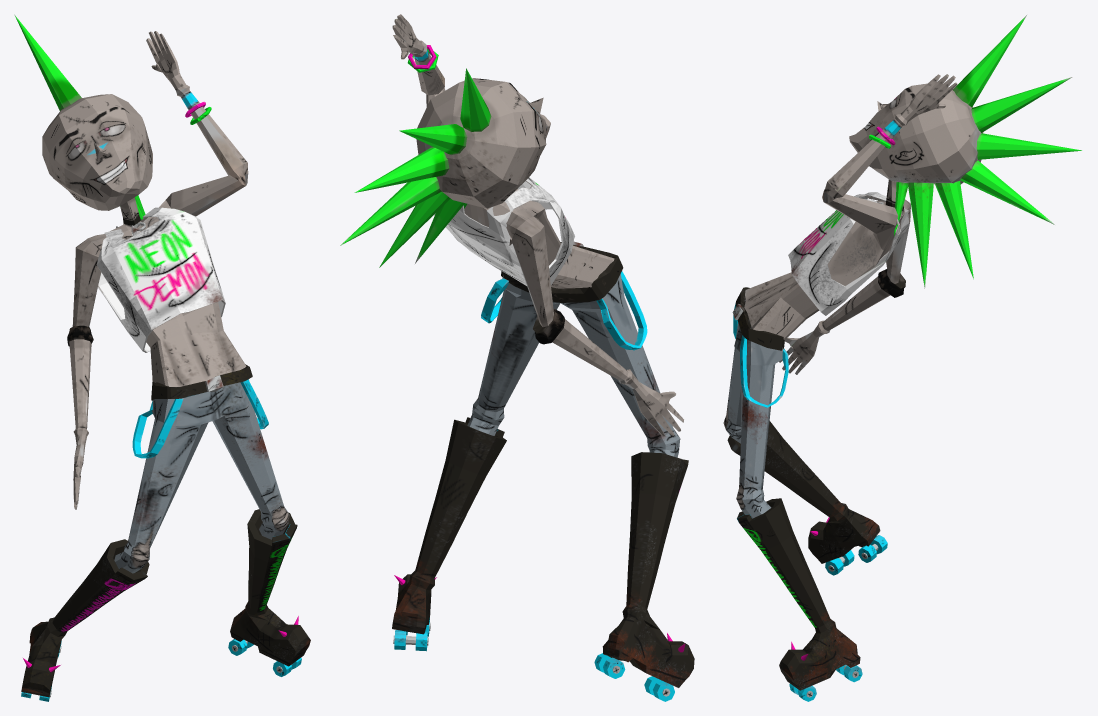
File: punkAnimation_000123.obj
3 views of the same model, side by side, from view 1: azimuth 30°, elevation 25°; view 2: azimuth 150°, elevation 25°; view 3: azimuth 270°, elevation 25° (orthographic). The views are drawn at different scales.
Parts seen in each view (by area): view 1: Cube.004_Cube.003; view 2: Cube.004_Cube.003; view 3: Cube.004_Cube.003.
Part boxes in pixels (bbox=[...]): Cube.004_Cube.003: bbox=[14, 14, 310, 701]; Cube.004_Cube.003: bbox=[340, 14, 694, 701]; Cube.004_Cube.003: bbox=[723, 15, 1081, 701].
Bounding box in the file's own units: 2.95 × 6.36 × 3.42.
